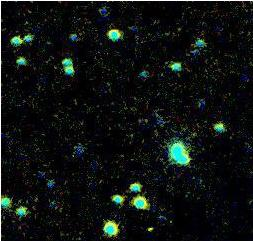star: (134, 214, 164, 241)
